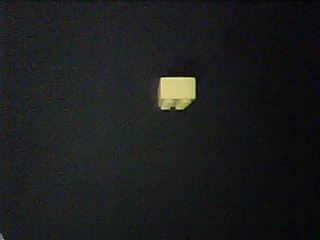lego: (155, 75, 196, 110)
